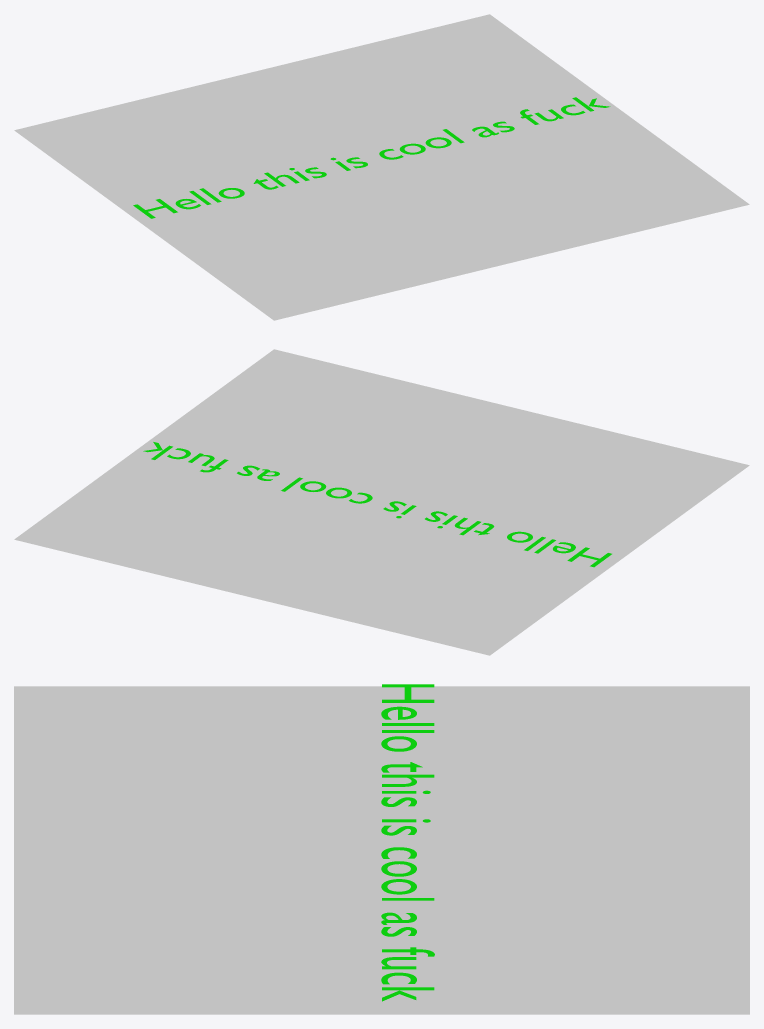
Rendered from custom_text1.gltf.
The picture shows the model from 3 angles, top to bottom: view 1: azimuth 30°, elevation 25°; view 2: azimuth 150°, elevation 25°; view 3: azimuth 270°, elevation 25°; orthographic projection. The views are drawn at different scales.
Visible parts, largest first — view 1: Plane, Hallo; view 2: Plane, Hallo; view 3: Plane, Hallo.
Part boxes in pixels (x1,y1,x2,y2): Plane: (14, 14, 749, 320); Hallo: (133, 97, 610, 218); Plane: (14, 349, 749, 655); Hallo: (143, 442, 611, 567); Plane: (14, 686, 749, 1014); Hallo: (381, 684, 434, 1001).
Size of the model in its own units: 10.16 by 0.1 by 9.62.
